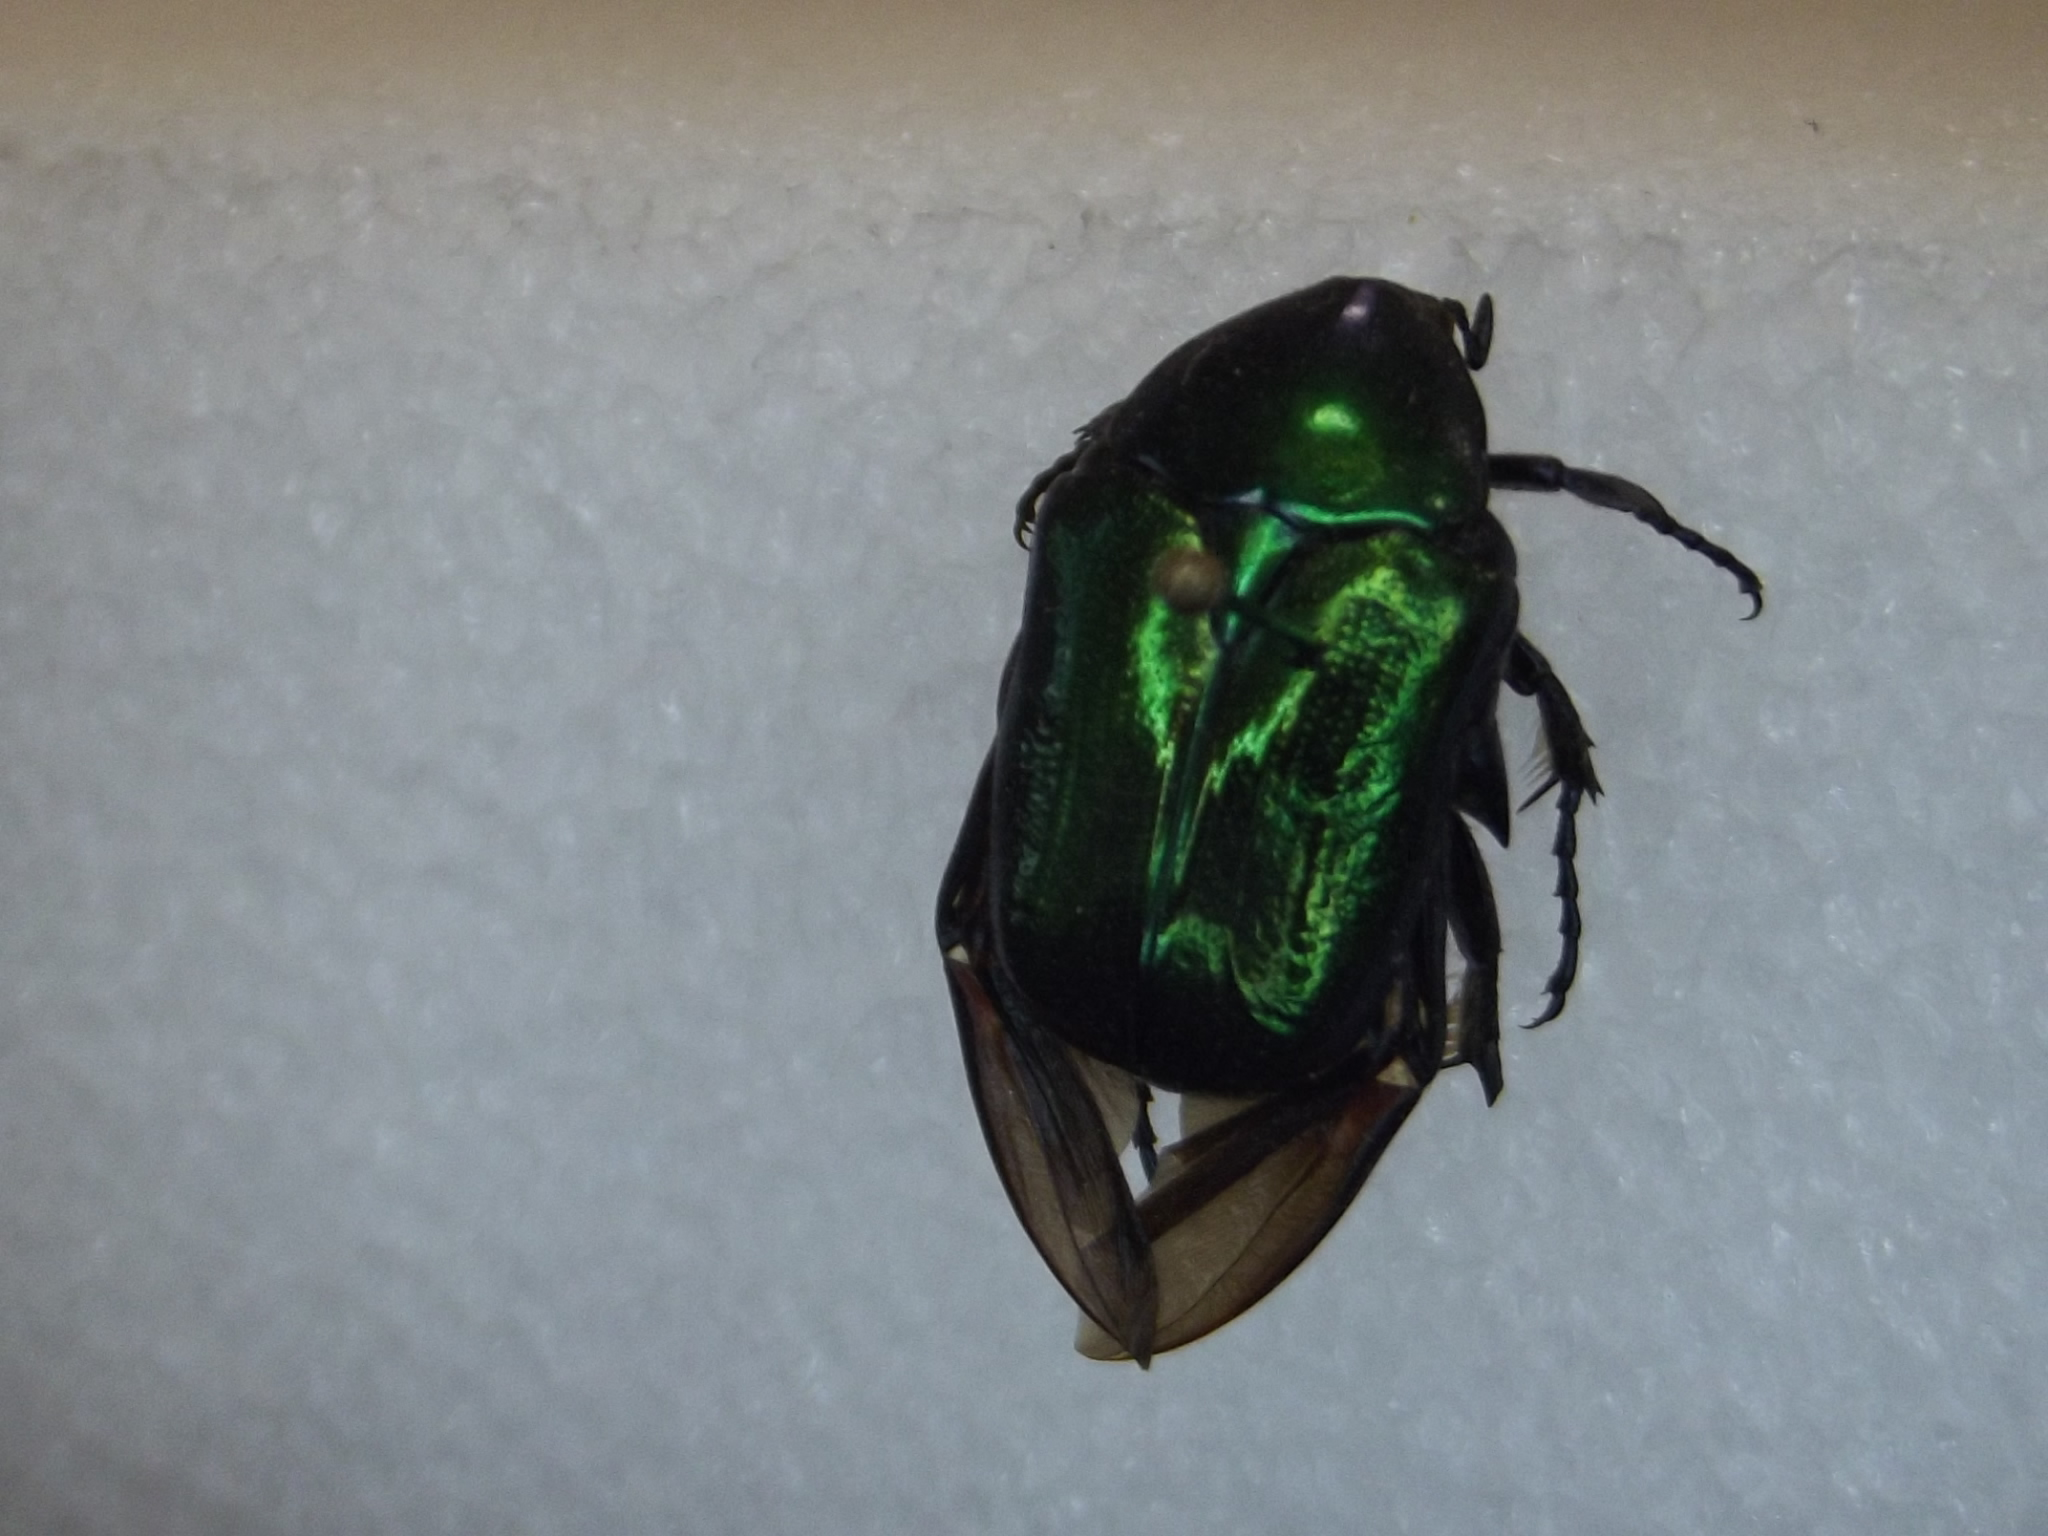Protaetia_angustata_angustata: (937, 202, 1780, 1110)
